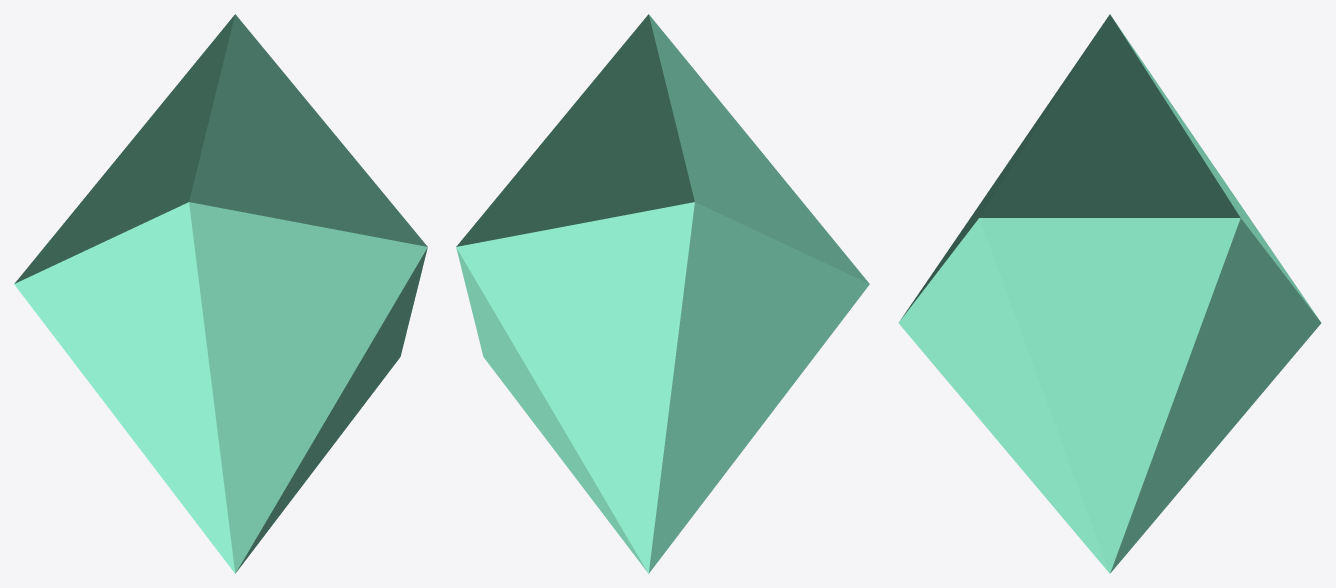
The model's file is core.glb.
3 views of the same model, side by side, from view 1: azimuth 30°, elevation 25°; view 2: azimuth 150°, elevation 25°; view 3: azimuth 270°, elevation 25° (orthographic).
Parts seen in each view (by area): view 1: energy-core; view 2: energy-core; view 3: energy-core.
Boxes of the visible parts, x1,y1,x2,y2 form: energy-core: (14,14,427,573); energy-core: (456,14,869,573); energy-core: (898,14,1321,573).
Size of the model in its own units: 0.6512 by 1 by 0.6848.
